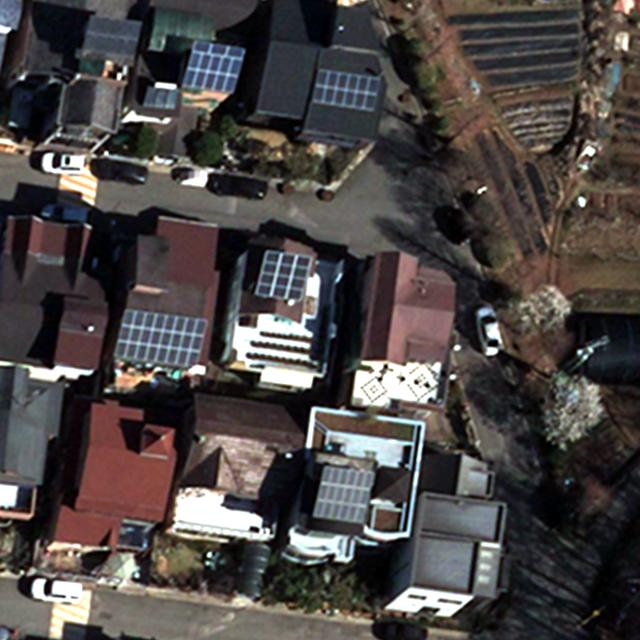panel: (112, 306, 209, 371), (309, 462, 376, 527), (182, 38, 247, 96), (311, 65, 384, 113), (253, 247, 315, 303), (140, 78, 180, 112)
